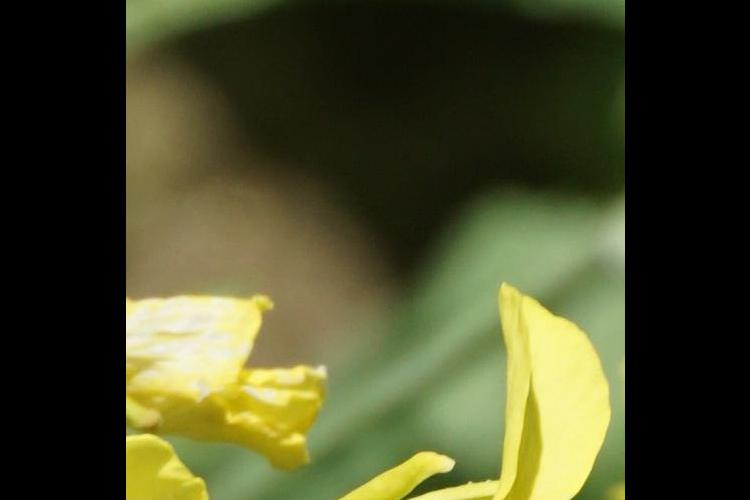yellow: (127, 285, 320, 482), (127, 431, 222, 500)
